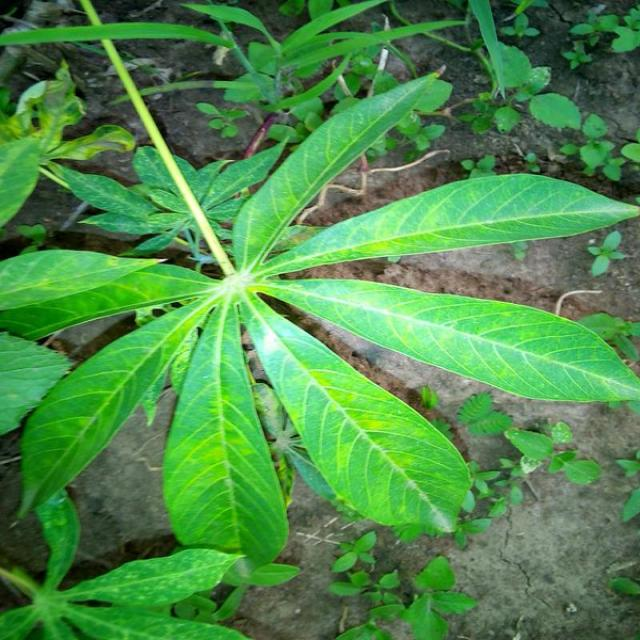cassava leaf: (2, 48, 639, 573), (242, 290, 474, 540), (259, 275, 640, 412), (257, 171, 639, 276), (162, 292, 292, 572)
